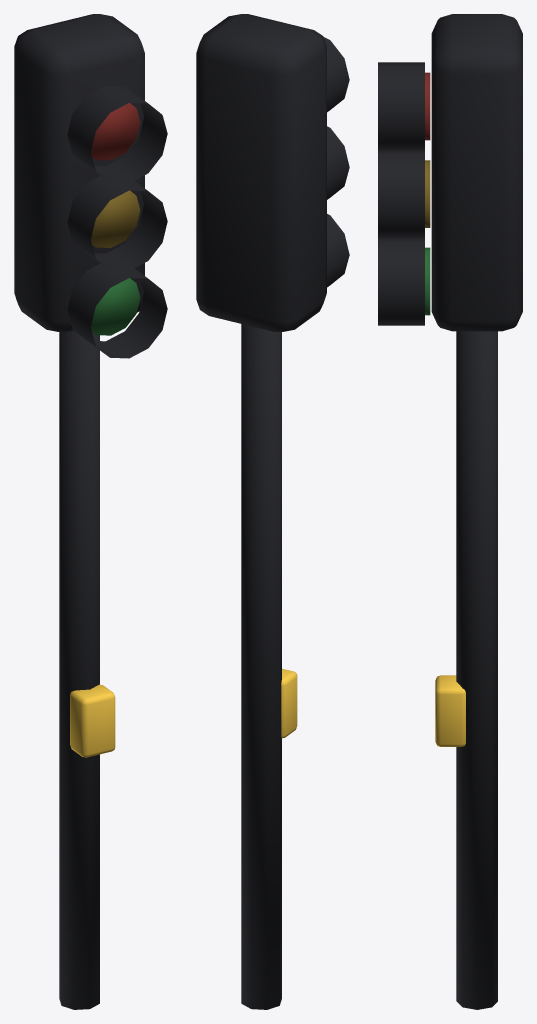
File: traffic_light.gltf
3 renders of one model, left to right at view 1: azimuth 30°, elevation 25°; view 2: azimuth 150°, elevation 25°; view 3: azimuth 270°, elevation 25°, orthographic.
Parts seen in each view (by area): view 1: traffic_light_mesh, TLAMP_green, TLAMP_red, TLAMP_yellow; view 2: traffic_light_mesh; view 3: traffic_light_mesh, TLAMP_green, TLAMP_red, TLAMP_yellow.
Boxes of the visible parts, x1,y1,x2,y2 form: traffic_light_mesh: [14, 14, 167, 1009]; TLAMP_green: [91, 278, 140, 335]; TLAMP_red: [91, 103, 140, 160]; TLAMP_yellow: [91, 190, 140, 247]; traffic_light_mesh: [196, 14, 349, 1009]; traffic_light_mesh: [378, 14, 522, 1009]; TLAMP_green: [425, 247, 430, 315]; TLAMP_red: [425, 72, 430, 140]; TLAMP_yellow: [425, 160, 430, 227].
Size of what is drawn, in the model's own units: 0.45 by 4.1 by 0.555.
